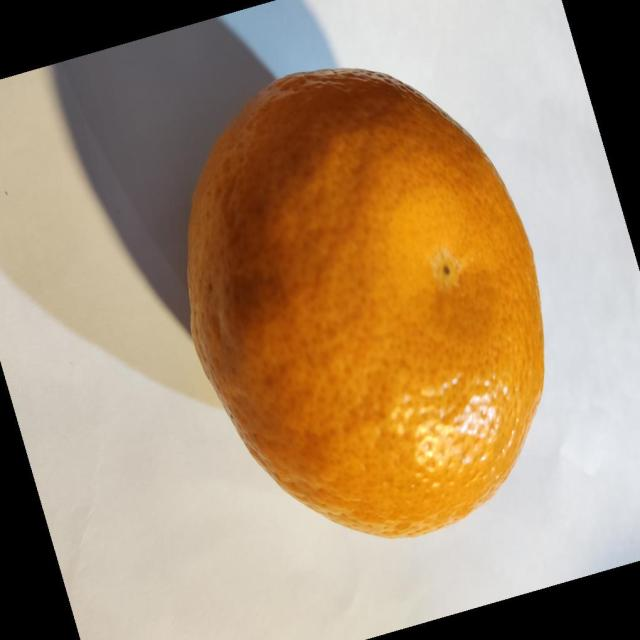fresh orange: (185, 66, 546, 539)
